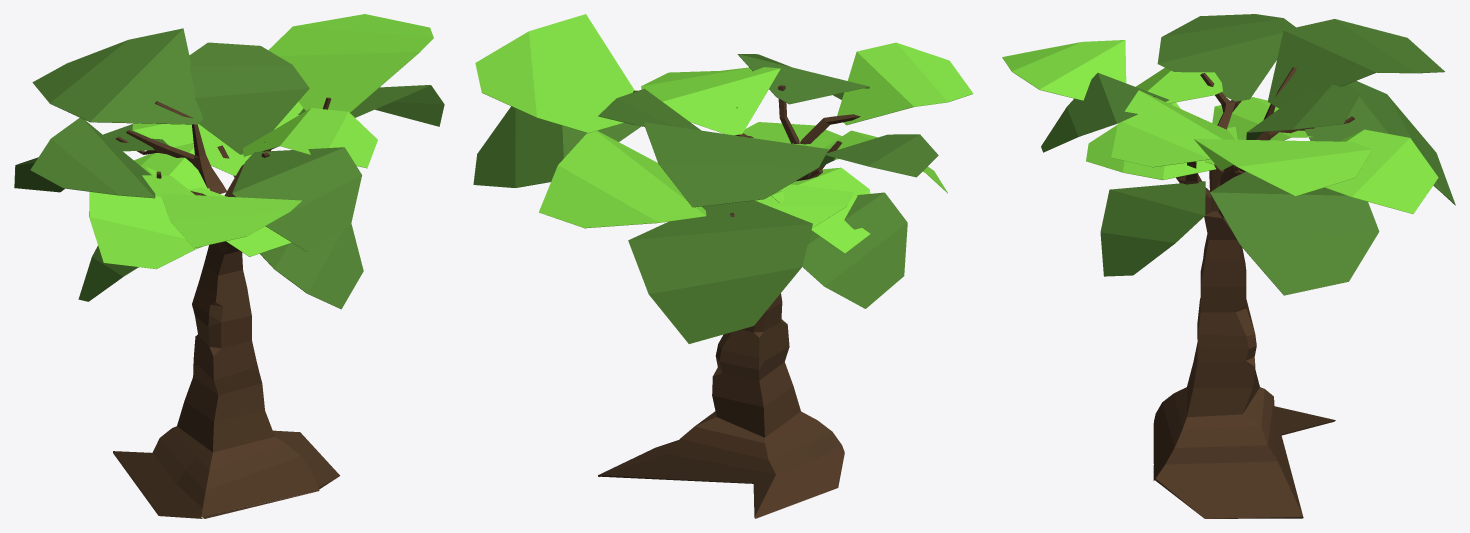
Rendered from trees1 (2).fbx.
3 views of the same model, side by side, from view 1: azimuth 30°, elevation 25°; view 2: azimuth 150°, elevation 25°; view 3: azimuth 270°, elevation 25° (orthographic).
Parts seen in each view (by area): view 1: Plane.008; view 2: Plane.008; view 3: Plane.008.
Part boxes in pixels (x1,y1,x2,y2): Plane.008: (14,14,444,518); Plane.008: (473,14,973,518); Plane.008: (1002,14,1455,518).
Size of the model in its own units: 919 by 850 by 839.
